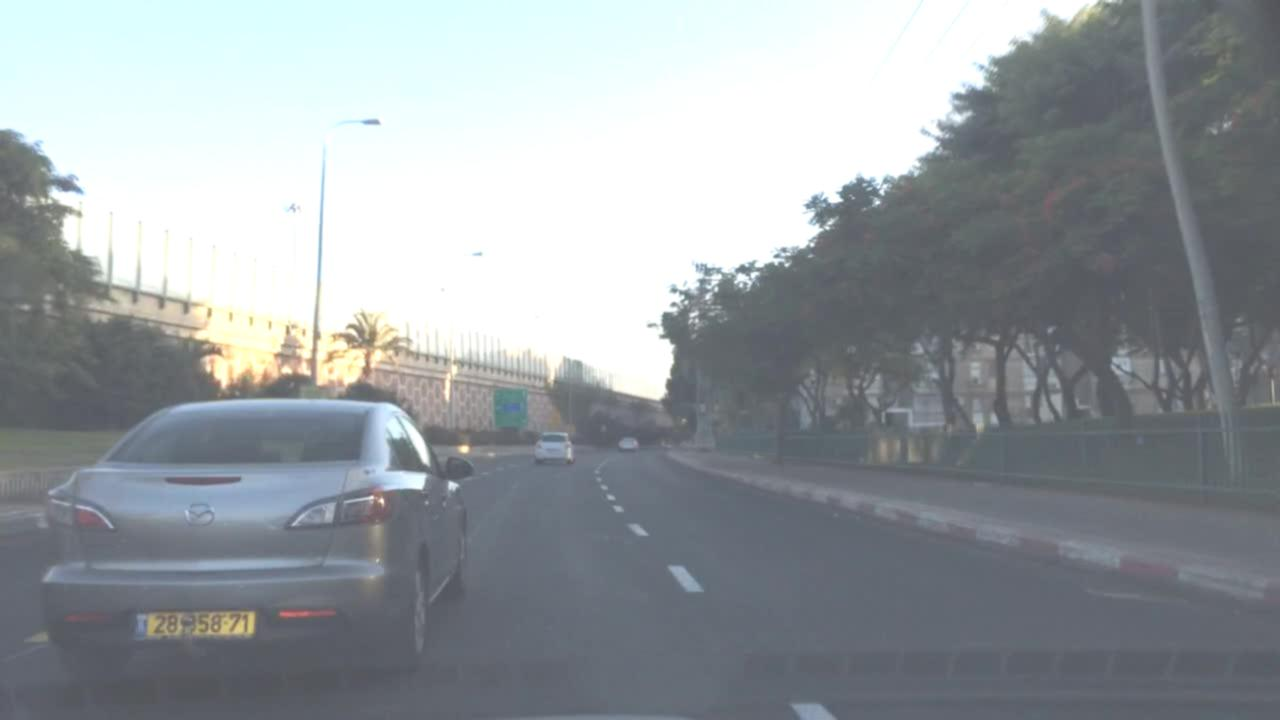Mazda: (169, 491, 228, 537)
